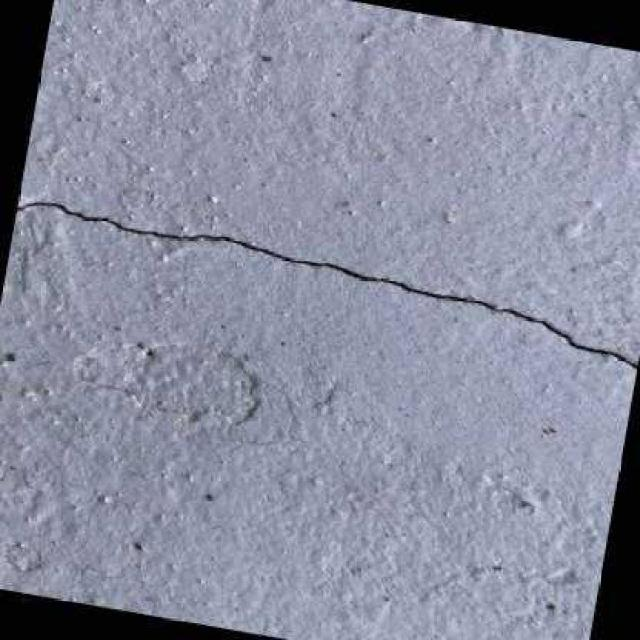D00: (15, 202, 637, 371)
